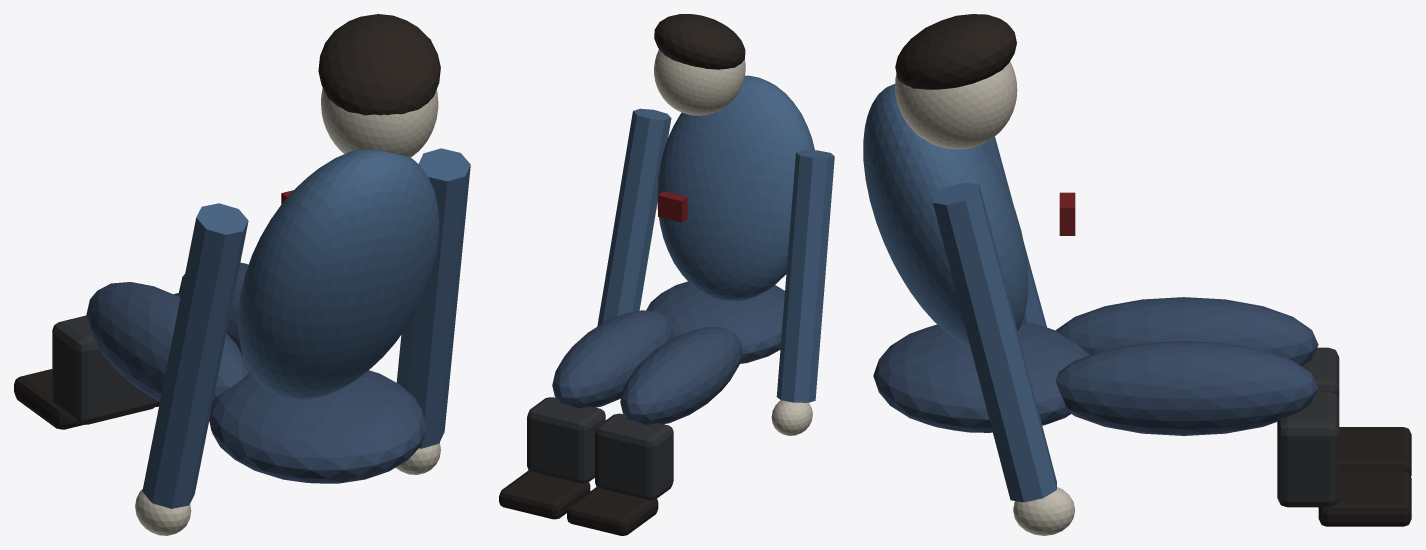
File: body_seated.glb
3 renders of one model, left to right at view 1: azimuth 30°, elevation 25°; view 2: azimuth 150°, elevation 25°; view 3: azimuth 270°, elevation 25°, orthographic. The views are drawn at different scales.
Visible parts, largest first — view 1: body_seated; view 2: body_seated; view 3: body_seated.
Part boxes in pixels (left/top/right/bottom): body_seated: left=14, top=14, right=470, bottom=535; body_seated: left=499, top=14, right=834, bottom=535; body_seated: left=863, top=14, right=1411, bottom=535.
Bounding box in the file's own units: 0.64 × 1.05 × 1.06.
Materials: 1 (1 with a texture image).
